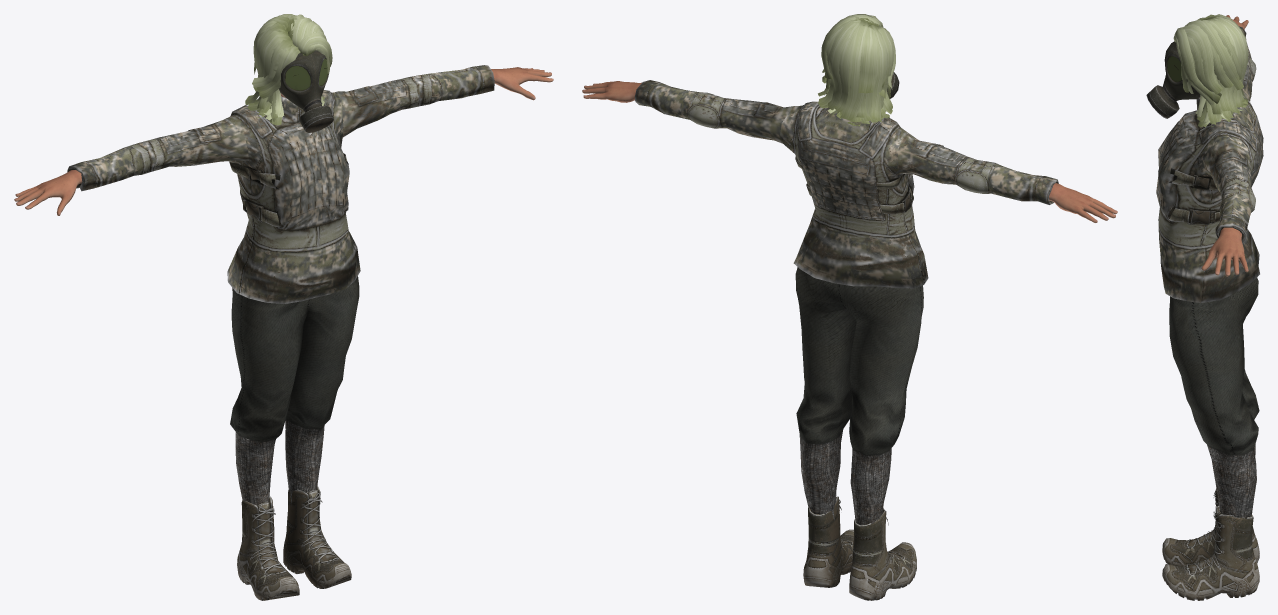
File: Female1.obj
3 views of the same model, side by side, from view 1: azimuth 30°, elevation 25°; view 2: azimuth 150°, elevation 25°; view 3: azimuth 270°, elevation 25° (orthographic).
Parts seen in each view (by area): view 1: Tops, Bottoms, Shoes, Hair, Masks, Body; view 2: Tops, Bottoms, Shoes, Hair, Body; view 3: Tops, Bottoms, Shoes, Hair, Masks, Body.
Part boxes in pixels (<box>): Tops: <box>67,65,494,303</box>; Bottoms: <box>230,276,359,506</box>; Shoes: <box>237,485,351,600</box>; Hair: <box>245,14,332,125</box>; Masks: <box>279,50,333,132</box>; Body: <box>14,67,553,215</box>; Tops: <box>634,80,1058,288</box>; Bottoms: <box>795,267,923,525</box>; Shoes: <box>803,496,916,600</box>; Hair: <box>818,14,895,125</box>; Body: <box>582,81,1117,222</box>; Tops: <box>1156,26,1263,302</box>; Bottoms: <box>1169,277,1259,518</box>; Shoes: <box>1162,488,1259,600</box>; Hair: <box>1173,14,1248,127</box>; Masks: <box>1146,41,1200,118</box>; Body: <box>1200,15,1248,276</box>.
Size of the model in its own units: 180 by 181 by 34.24.
Materials: 6 (6 with a texture image).
